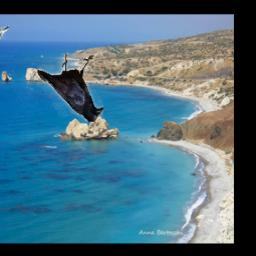Crow: (37, 54, 103, 123)
Sparrow: (0, 23, 10, 52)
